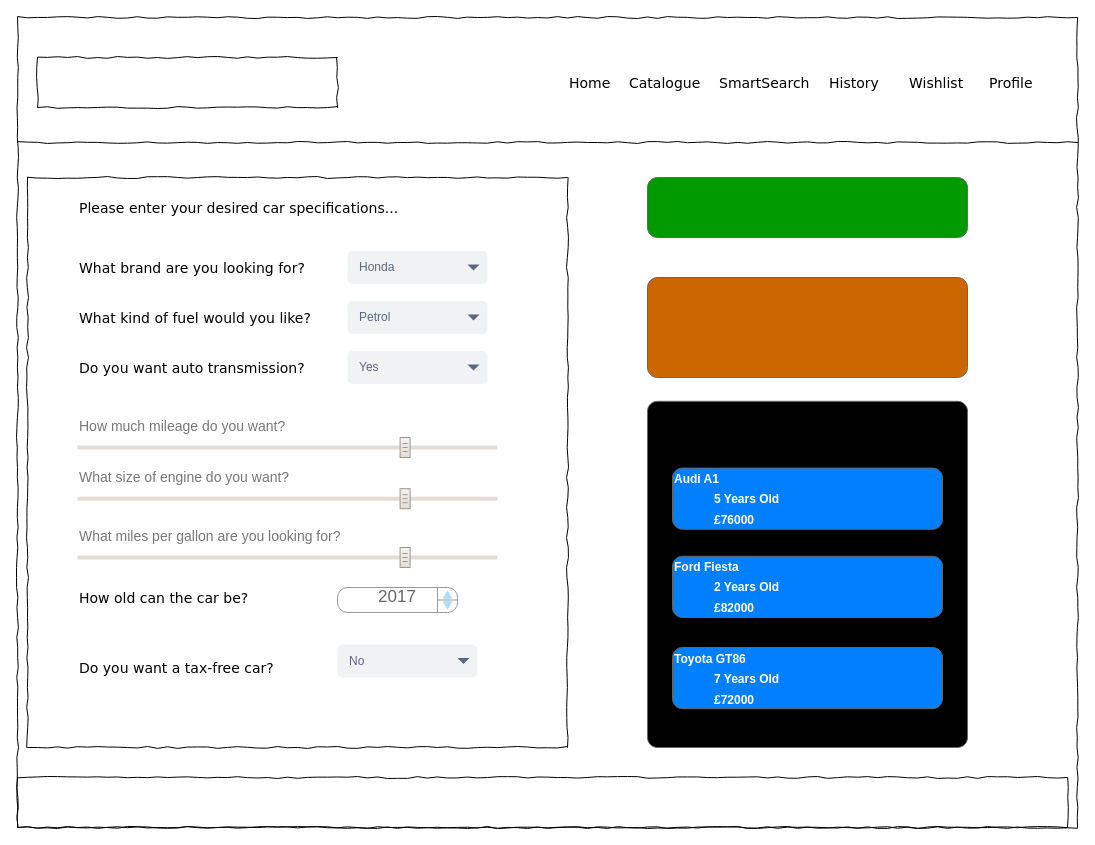
Some shapes in this 1095 by 845 pixel diagram are drawn without their labels. Here are the shapes that lost their labels. From the top down, the box of each, then its label:
(36, 56, 338, 108): Giggles Gears
(646, 176, 968, 238): Predict!
(646, 276, 968, 378): The price of a car with your specification will be around.... £80000
(646, 400, 968, 748): Our Recommendations:
(16, 776, 1068, 828): Footer
